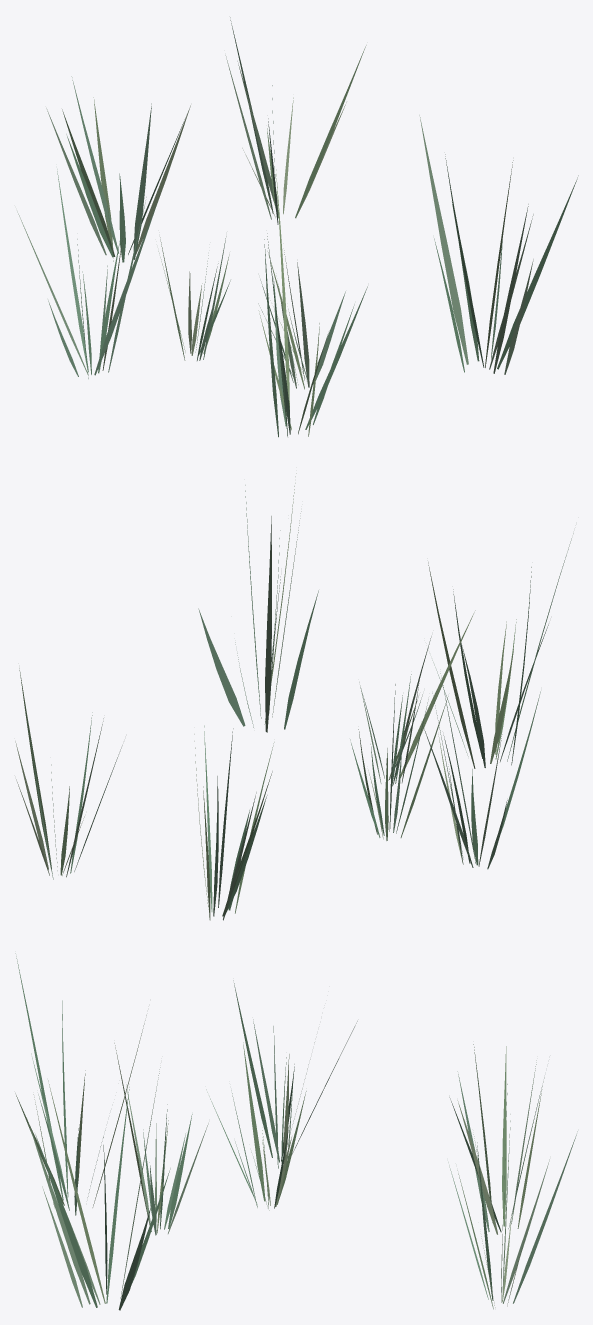
File: E07_VEG07_CAPIM_UMIDO_C_R3Z2_REV04.glb
3 renders of one model, top to bottom at view 1: azimuth 30°, elevation 25°; view 2: azimuth 150°, elevation 25°; view 3: azimuth 270°, elevation 25°, orthographic. The views are drawn at different scales.
Visible parts, largest first — view 1: world; view 2: world; view 3: world.
Part boxes in pixels (left/top/right/bottom): world: left=17, top=17, right=578, bottom=437; world: left=15, top=473, right=573, bottom=920; world: left=15, top=953, right=577, bottom=1310.
Size of the model in its own units: 1.41 by 0.7833 by 1.72.
